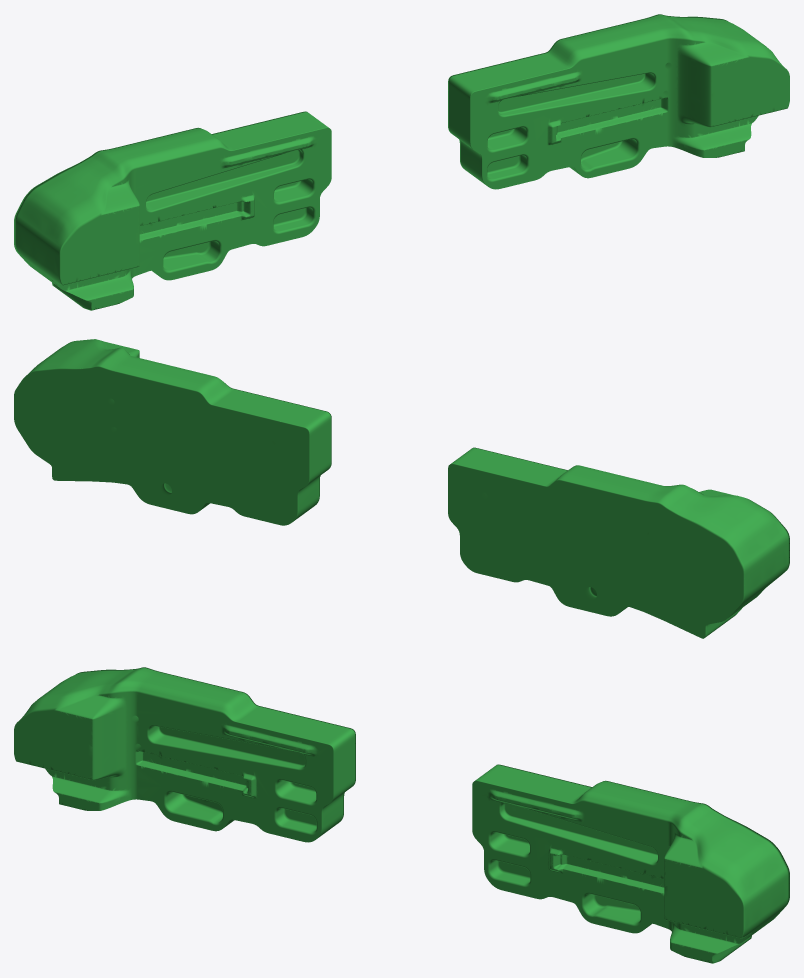
File: trango-rock-prodigy-forge.glb
The picture shows the model from 3 angles, top to bottom: view 1: azimuth 30°, elevation 25°; view 2: azimuth 150°, elevation 25°; view 3: azimuth 330°, elevation 25°; orthographic projection.
Visible parts, largest first — view 1: body--right, body--left, hold--right-pinch-medium, hold--left-pinch-medium, hold--left-closed-crimp, hold--right-closed-crimp, hold--left-rail, hold--right-rail, hold--right-pinch-narrow, hold--left-pinch-narrow, hold--left-sloper-30, hold--right-sloper-40 (+11 smaller); view 2: body--left, body--right, hold--right-flat-edge; view 3: body--left, body--right, hold--left-pinch-medium, hold--right-pinch-medium, hold--right-closed-crimp, hold--left-closed-crimp, hold--right-rail, hold--left-rail, hold--left-pinch-narrow, hold--right-pinch-narrow, hold--right-sloper-30, hold--left-sloper-40 (+11 smaller).
Part boxes in pixels (x1,y1,x2,y2): body--right: (448,14,782,189); body--left: (14,111,331,310); hold--right-pinch-medium: (702,48,789,127); hold--left-pinch-medium: (60,194,139,285); hold--left-closed-crimp: (139,200,254,243); hold--right-closed-crimp: (551,97,666,143); hold--left-rail: (145,154,304,212); hold--right-rail: (497,73,656,117); hold--right-pinch-narrow: (693,125,751,157); hold--left-pinch-narrow: (68,277,133,310); hold--left-sloper-30: (58,169,124,242); hold--right-sloper-40: (570,30,691,65); body--left: (448,450,789,638); body--right: (14,339,331,525); hold--right-flat-edge: (225,385,331,442); body--left: (21,667,355,842); body--right: (472,764,789,963); hold--left-pinch-medium: (14,701,101,780); hold--right-pinch-medium: (664,847,743,938); hold--right-closed-crimp: (549,853,664,896); hold--left-closed-crimp: (137,750,252,796); hold--right-rail: (499,807,658,865); hold--left-rail: (147,726,306,770); hold--left-pinch-narrow: (52,778,110,810); hold--right-pinch-narrow: (670,930,735,963); hold--right-sloper-30: (679,822,745,895); hold--left-sloper-40: (112,683,233,718).
Size of the model in its own units: 0.8001 by 0.1334 by 0.089.
